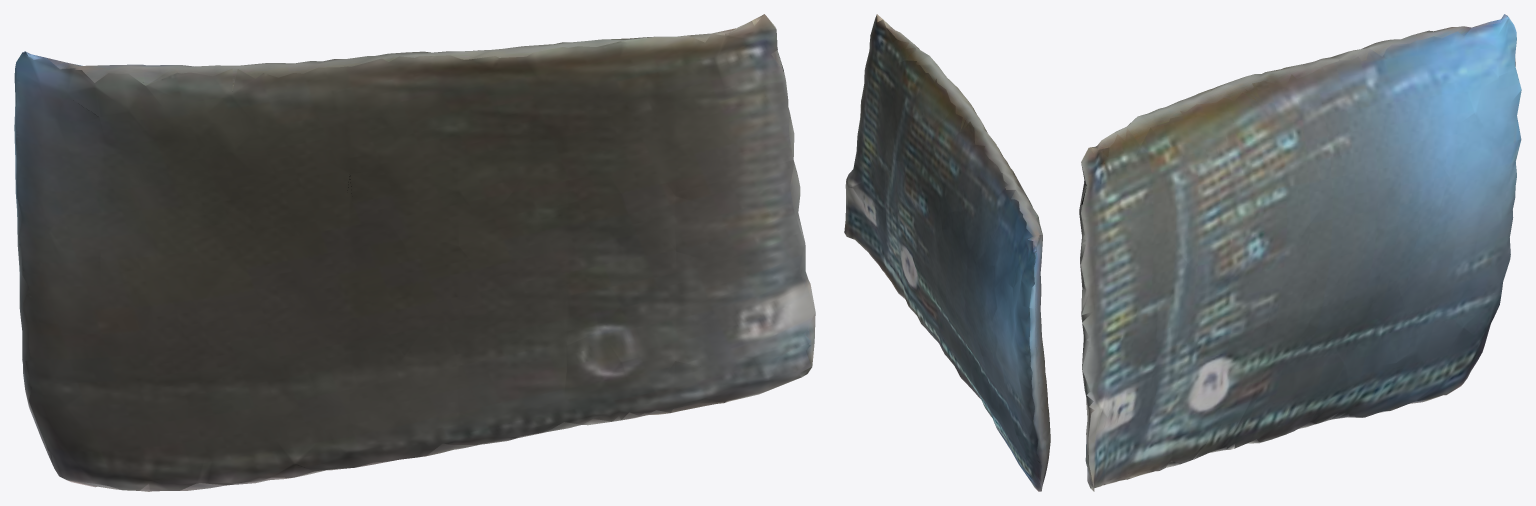
3 renders of one model, left to right at view 1: azimuth 30°, elevation 25°; view 2: azimuth 150°, elevation 25°; view 3: azimuth 270°, elevation 25°, orthographic. The views are drawn at different scales.
Parts seen in each view (by area): view 1: world; view 2: world; view 3: world.
Part boxes in pixels (box(x1,y1,x2,y2)): world: box(14, 14, 815, 491); world: box(844, 14, 1050, 491); world: box(1079, 14, 1521, 491).
Size of the model in its own units: 0.4609 by 0.404 by 0.365.
1 material, 1 textured.
